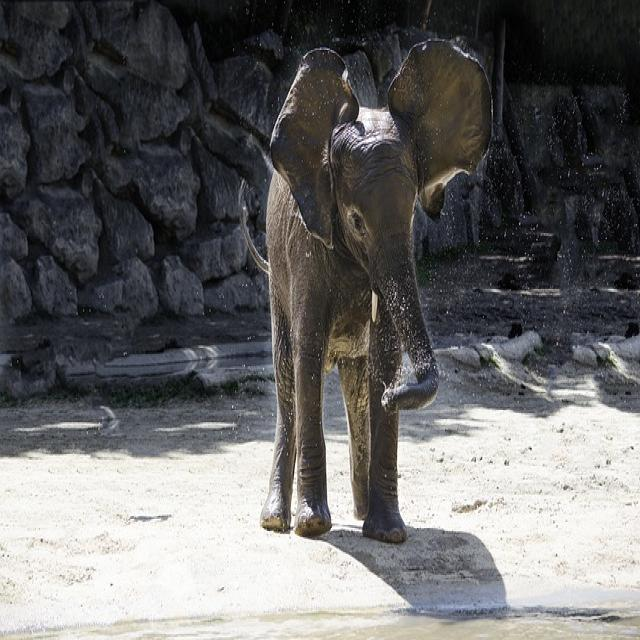FIL: (259, 36, 496, 548)
